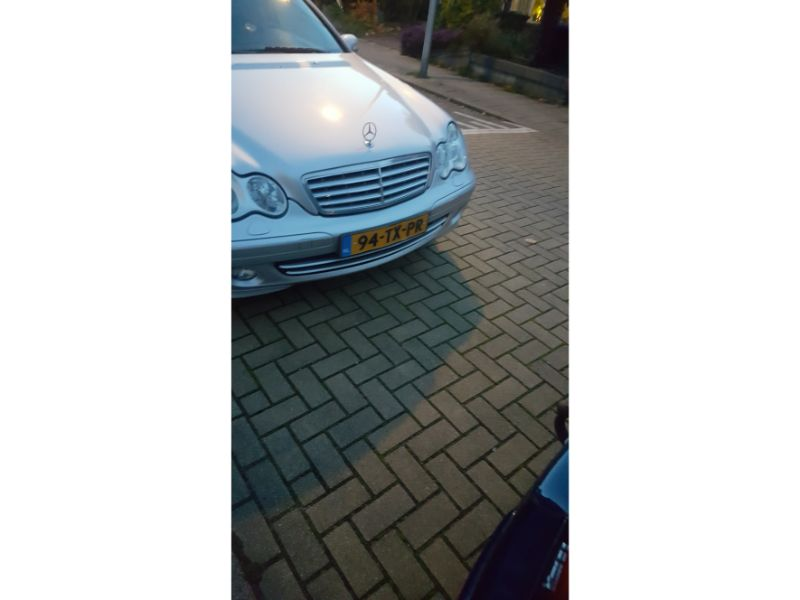kenteken: (342, 211, 432, 259)
